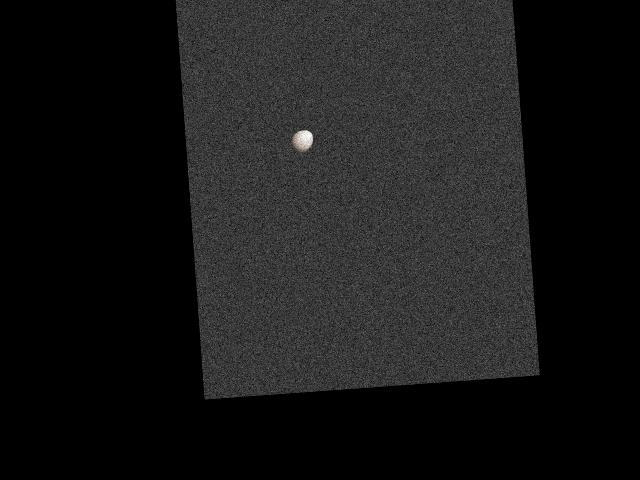egg: (289, 129, 313, 154)
